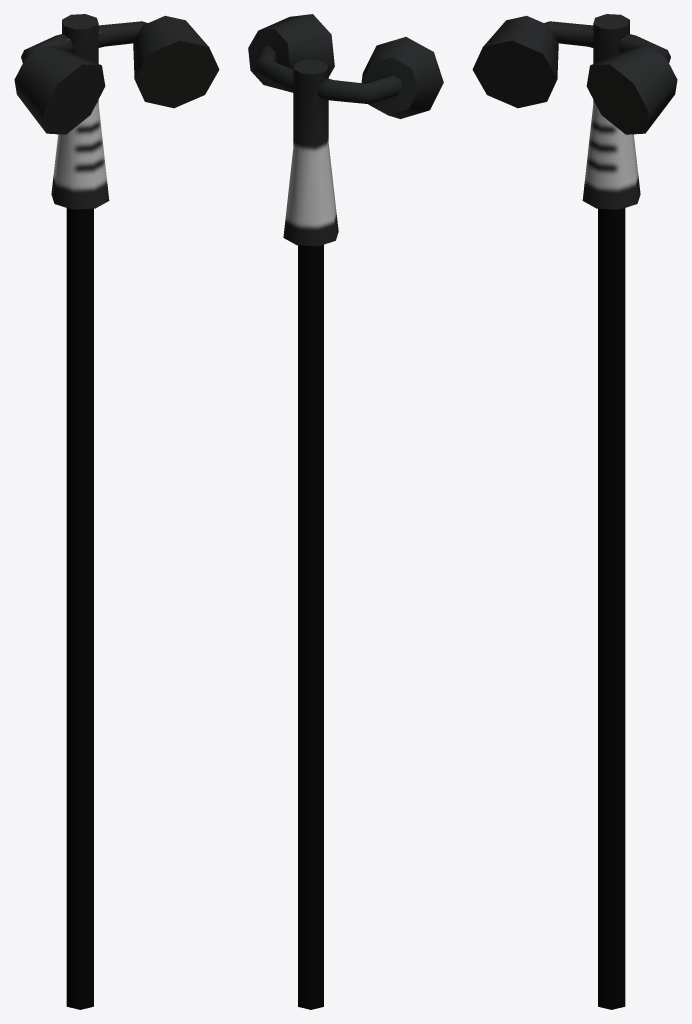
Rendered from Chem_EyeWasher.fbx.
The picture shows the model from 3 angles, left to right: view 1: azimuth 30°, elevation 25°; view 2: azimuth 150°, elevation 25°; view 3: azimuth 330°, elevation 25°; orthographic projection. The views are drawn at different scales.
Visible parts, largest first — view 1: EyeWash; view 2: EyeWash; view 3: EyeWash.
Part boxes in pixels (x1,y1,x2,y2): EyeWash: (14, 14, 219, 1009); EyeWash: (248, 14, 443, 1009); EyeWash: (472, 14, 677, 1009).
Bounding box in the file's own units: 0.3719 × 1.97 × 0.2458.
